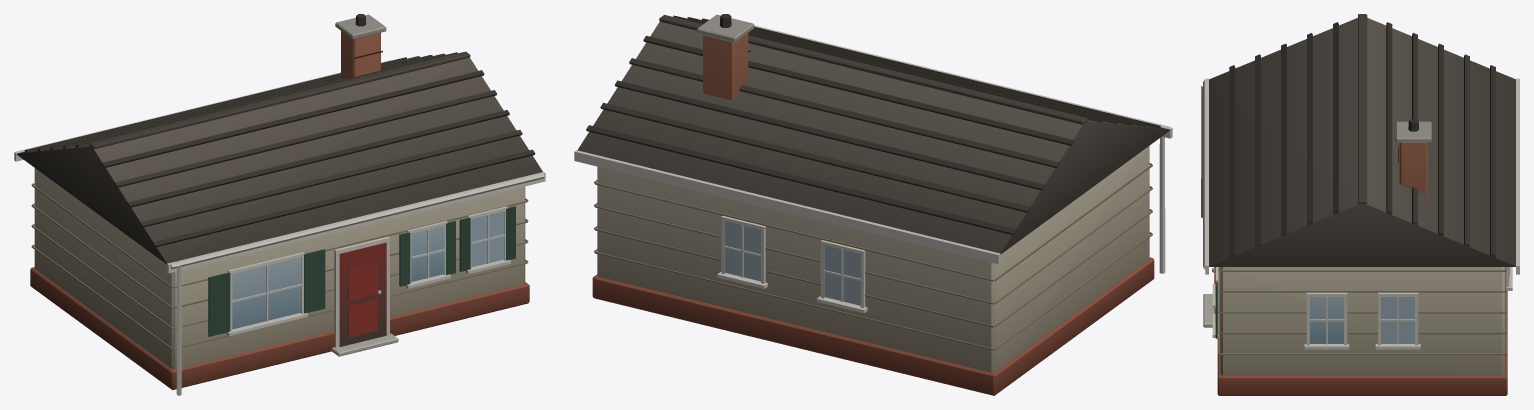
File: ranch_house.glb
The picture shows the model from 3 angles, left to right: view 1: azimuth 30°, elevation 25°; view 2: azimuth 150°, elevation 25°; view 3: azimuth 270°, elevation 25°; orthographic projection. The views are drawn at different scales.
Visible parts, largest first — view 1: ranch_house; view 2: ranch_house; view 3: ranch_house.
Part boxes in pixels (x1=…): ranch_house: x1=14, y1=14, x2=545, y2=395; ranch_house: x1=574, y1=14, x2=1172, y2=395; ranch_house: x1=1201, y1=14, x2=1519, y2=395.
Size of the model in its own units: 8.16 by 4.84 by 5.83.
